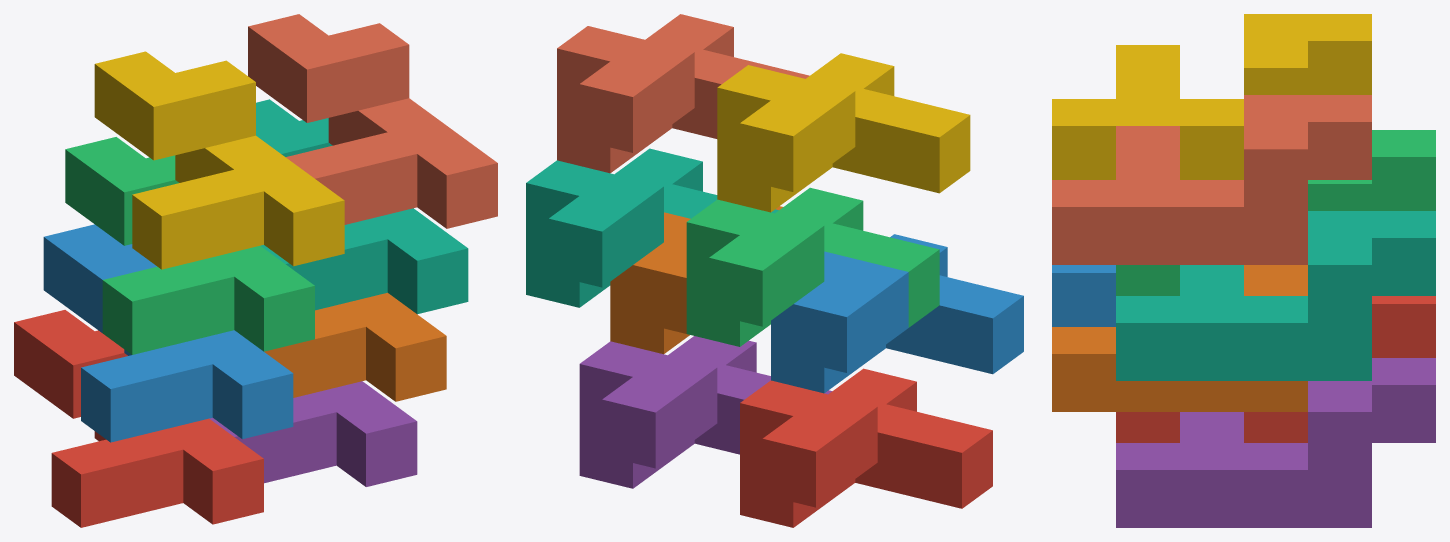
The model's file is tiling.obj.
3 views of the same model, side by side, from view 1: azimuth 30°, elevation 25°; view 2: azimuth 150°, elevation 25°; view 3: azimuth 270°, elevation 25° (orthographic). The views are drawn at different scales.
Visible parts, largest first — view 1: copy_1_domain_4, copy_1_domain_8, copy_1_domain_3, copy_1_domain_1, copy_1_domain_2, copy_1_domain_7, copy_1_domain_6, copy_1_domain_5; view 2: copy_1_domain_4, copy_1_domain_1, copy_1_domain_3, copy_1_domain_2, copy_1_domain_8, copy_1_domain_5, copy_1_domain_7, copy_1_domain_6; view 3: copy_1_domain_8, copy_1_domain_7, copy_1_domain_5, copy_1_domain_4, copy_1_domain_6, copy_1_domain_3, copy_1_domain_1, copy_1_domain_2.
Part boxes in pixels (left/top/right/bottom): copy_1_domain_4: left=94, top=51, right=344, bottom=269; copy_1_domain_8: left=248, top=14, right=497, bottom=228; copy_1_domain_3: left=65, top=137, right=314, bottom=354; copy_1_domain_1: left=14, top=310, right=263, bottom=527; copy_1_domain_2: left=43, top=224, right=293, bottom=442; copy_1_domain_7: left=256, top=99, right=468, bottom=314; copy_1_domain_6: left=264, top=292, right=446, bottom=401; copy_1_domain_5: left=209, top=381, right=417, bottom=486; copy_1_domain_4: left=717, top=53, right=970, bottom=212; copy_1_domain_1: left=740, top=368, right=992, bottom=527; copy_1_domain_3: left=686, top=187, right=939, bottom=346; copy_1_domain_2: left=771, top=234, right=1023, bottom=393; copy_1_domain_8: left=557, top=14, right=809, bottom=173; copy_1_domain_5: left=579, top=336, right=832, bottom=488; copy_1_domain_7: left=526, top=148, right=778, bottom=307; copy_1_domain_6: left=610, top=206, right=782, bottom=354; copy_1_domain_8: left=1052, top=95, right=1371, bottom=264; copy_1_domain_7: left=1116, top=211, right=1435, bottom=380; copy_1_domain_5: left=1116, top=358, right=1435, bottom=527; copy_1_domain_4: left=1052, top=14, right=1371, bottom=179; copy_1_domain_6: left=1052, top=265, right=1307, bottom=411; copy_1_domain_3: left=1116, top=130, right=1435, bottom=295; copy_1_domain_1: left=1116, top=296, right=1435, bottom=442; copy_1_domain_2: left=1052, top=265, right=1115, bottom=326.
Bounding box in the file's own units: 7 × 7 × 6.
